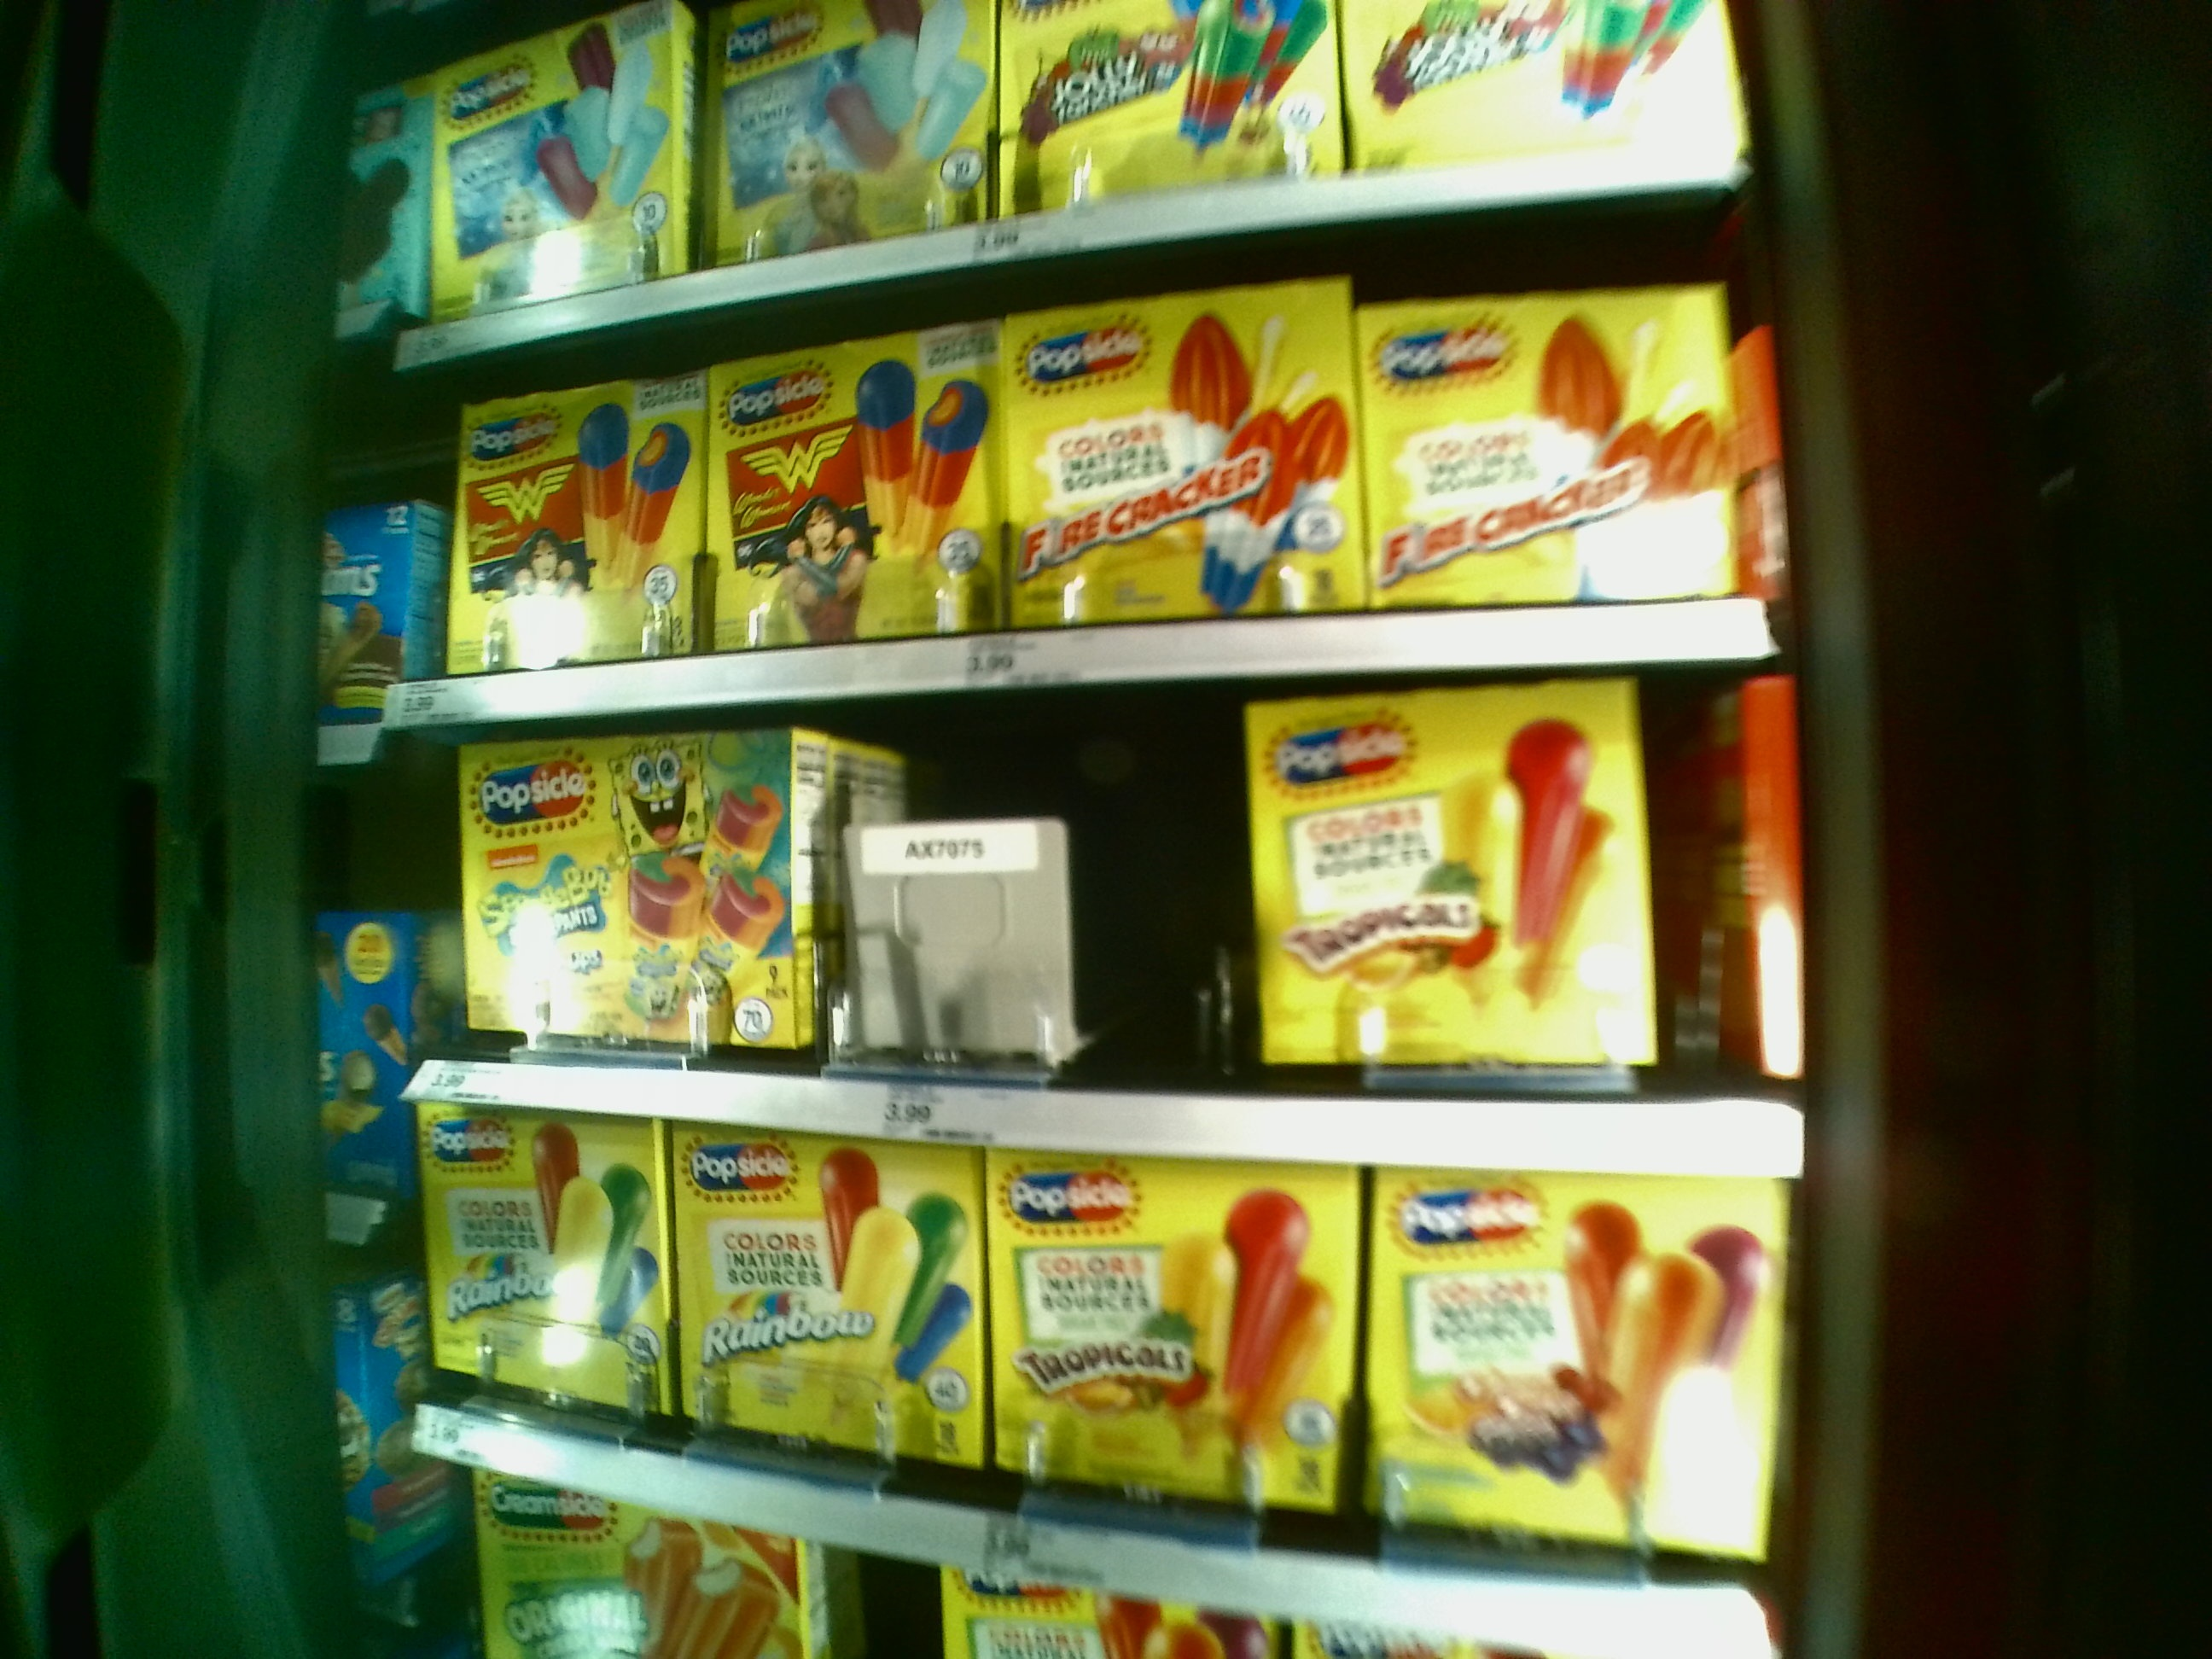shelf: (448, 1122, 1791, 1607), (441, 268, 1777, 714), (446, 723, 1797, 1155)
